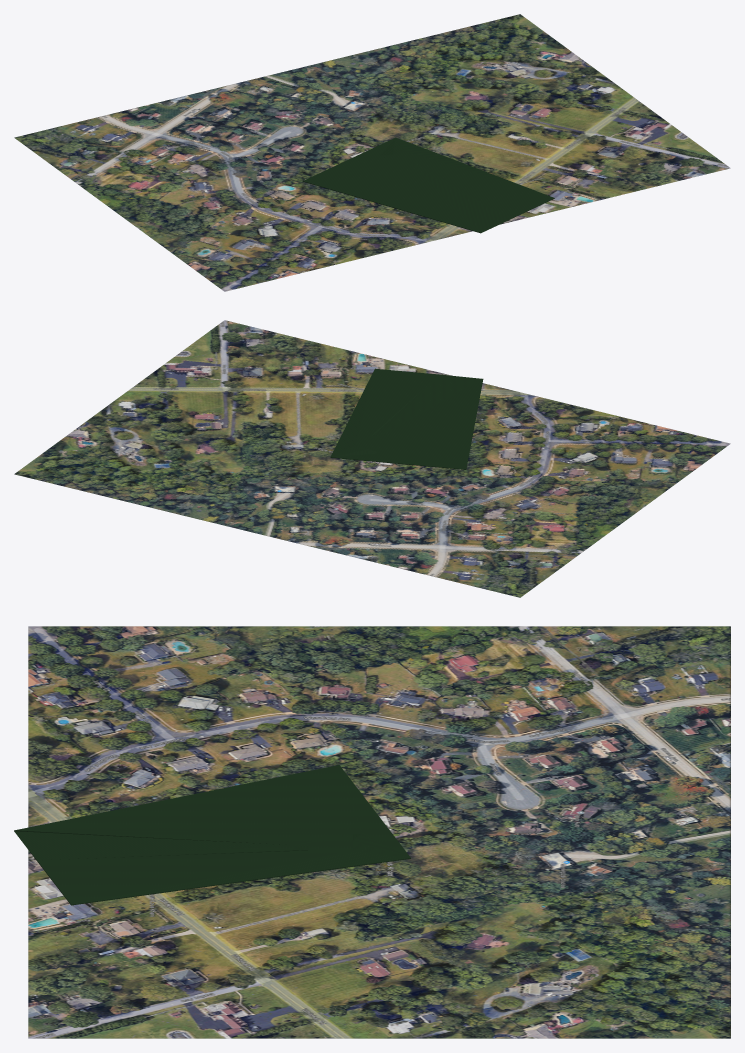
Rendered from lote.glb.
3 views of the same model, one above another, from view 1: azimuth 30°, elevation 25°; view 2: azimuth 150°, elevation 25°; view 3: azimuth 270°, elevation 25° (orthographic). The views are drawn at different scales.
Parts seen in each view (by area): view 1: Image, Root Node; view 2: Image, Root Node; view 3: Image, Root Node.
Part boxes in pixels (x1,y1,x2,y2): Image: (14, 14, 730, 291); Root Node: (302, 137, 554, 233); Image: (14, 320, 730, 597); Root Node: (330, 368, 483, 469); Image: (28, 626, 730, 1038); Root Node: (14, 765, 410, 905).
Size of the model in its own units: 492 by 1.08 by 362.
24 materials, 24 textured.
